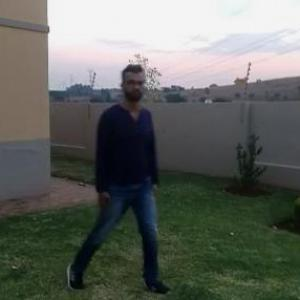follow: (91, 71, 154, 256)
